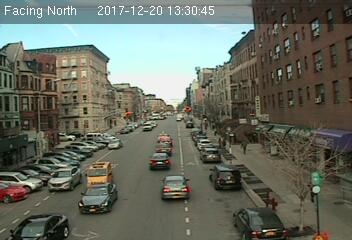car: (231, 203, 290, 240), (77, 184, 119, 214), (208, 165, 243, 191), (45, 166, 81, 190), (160, 175, 191, 201), (85, 160, 112, 187), (148, 152, 172, 171), (202, 147, 221, 162), (107, 138, 122, 150)
